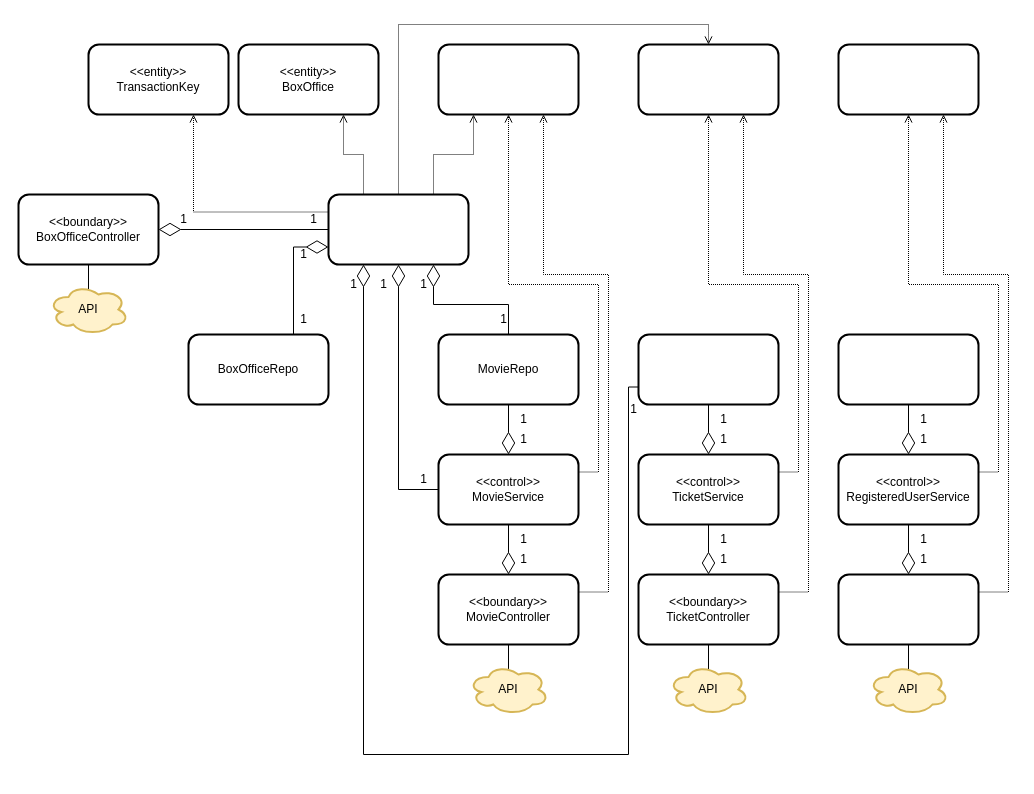
Image size: 1034x794. Some labels were removed from this diagram. Each missing label, with the centre of its shape:
"<<boundary>> RegisteredUserController" belongs at (x=908, y=609).
"<<control>> BoxOfficeService" belongs at (x=398, y=229).
"<<entity>> Movie" belongs at (x=508, y=79).
"<<entity>> RegisteredUser" belongs at (x=908, y=79).
"<<entity>> Ticket" belongs at (x=708, y=79).
"RegisteredUserRepo" belongs at (x=908, y=369).
"TicketRepo" belongs at (x=708, y=369).
